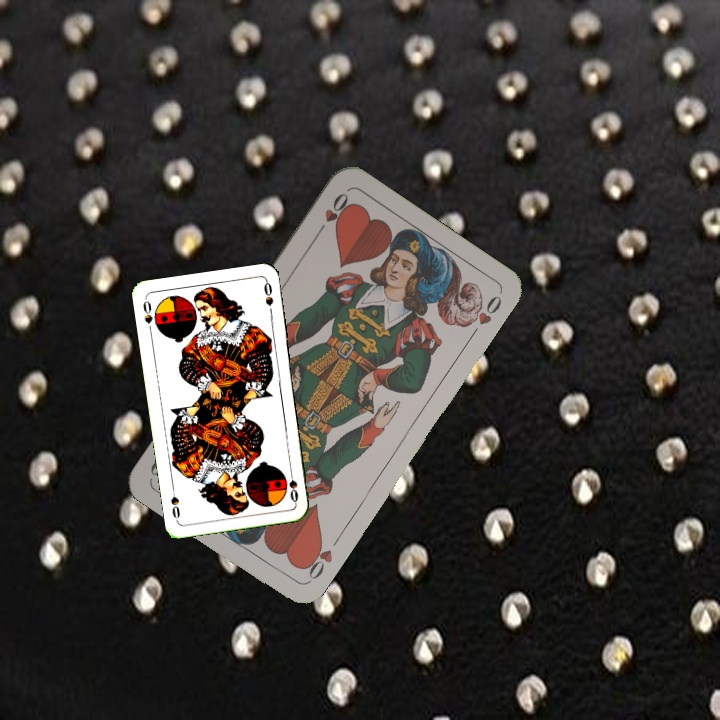HO: (311, 188, 351, 240), (298, 535, 336, 585)
SO: (139, 295, 155, 336), (285, 465, 301, 505)
